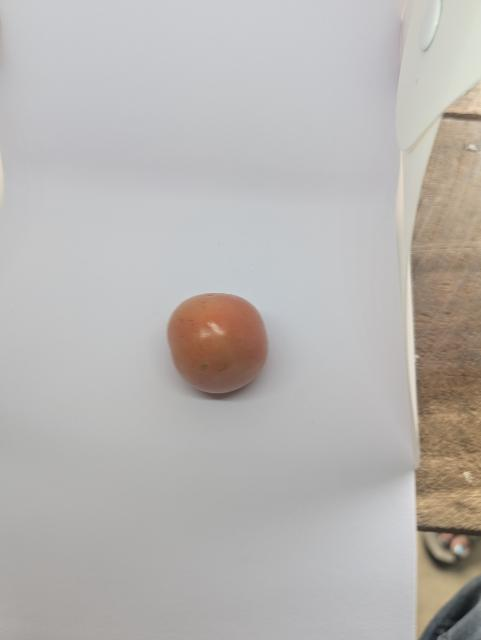turning: (159, 285, 277, 401)
